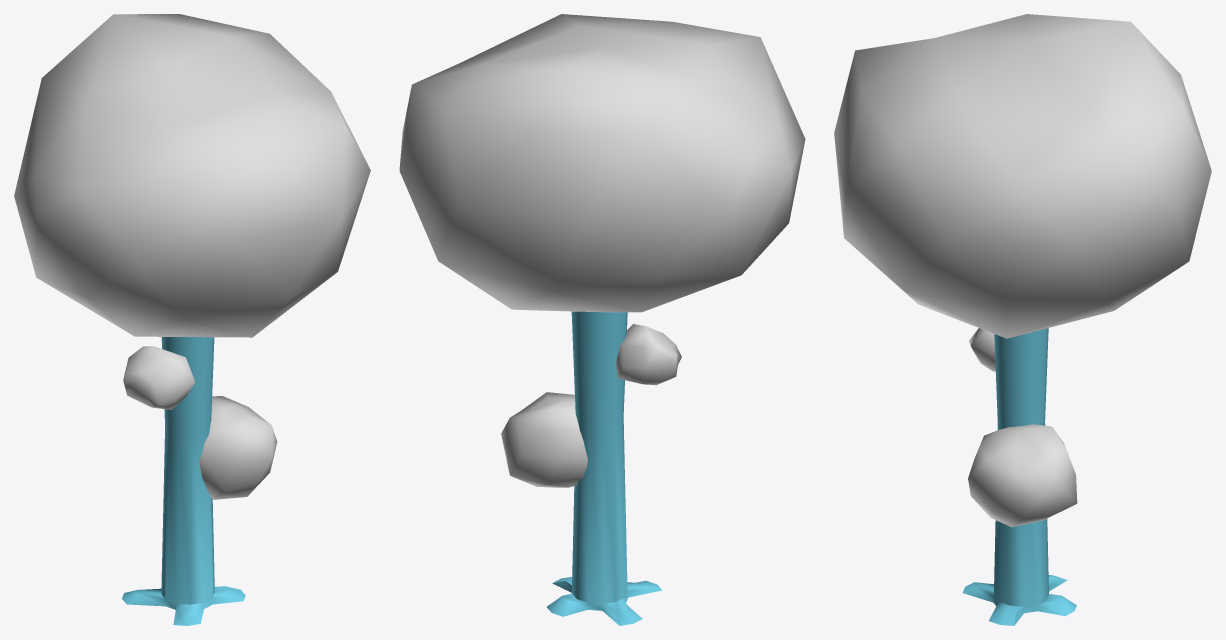
The model's file is Tree2.fbx.
3 views of the same model, side by side, from view 1: azimuth 30°, elevation 25°; view 2: azimuth 150°, elevation 25°; view 3: azimuth 270°, elevation 25° (orthographic). The views are drawn at different scales.
Parts seen in each view (by area): view 1: Icosphere.005; view 2: Icosphere.005; view 3: Icosphere.005.
Boxes of the visible parts, x1,y1,x2,y2 form: Icosphere.005: (14,14,370,625); Icosphere.005: (399,14,805,625); Icosphere.005: (834,14,1211,625).
Bounding box in the file's own units: 2.74 × 4.36 × 2.62.
